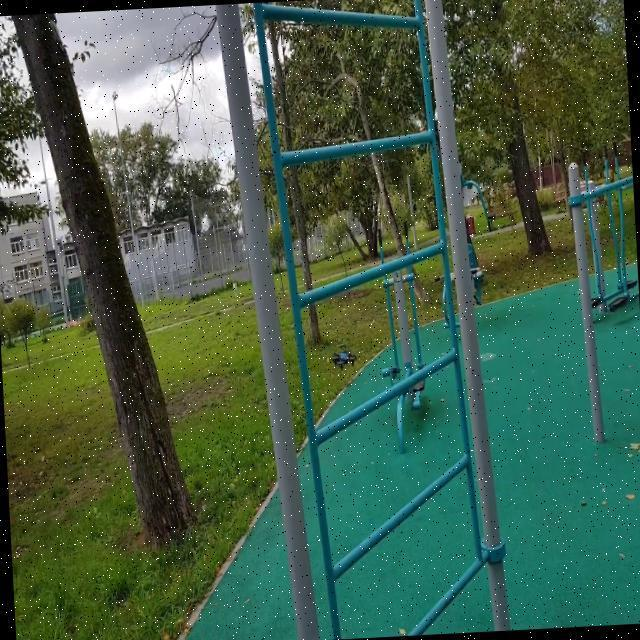Drons: (327, 345, 364, 374)
